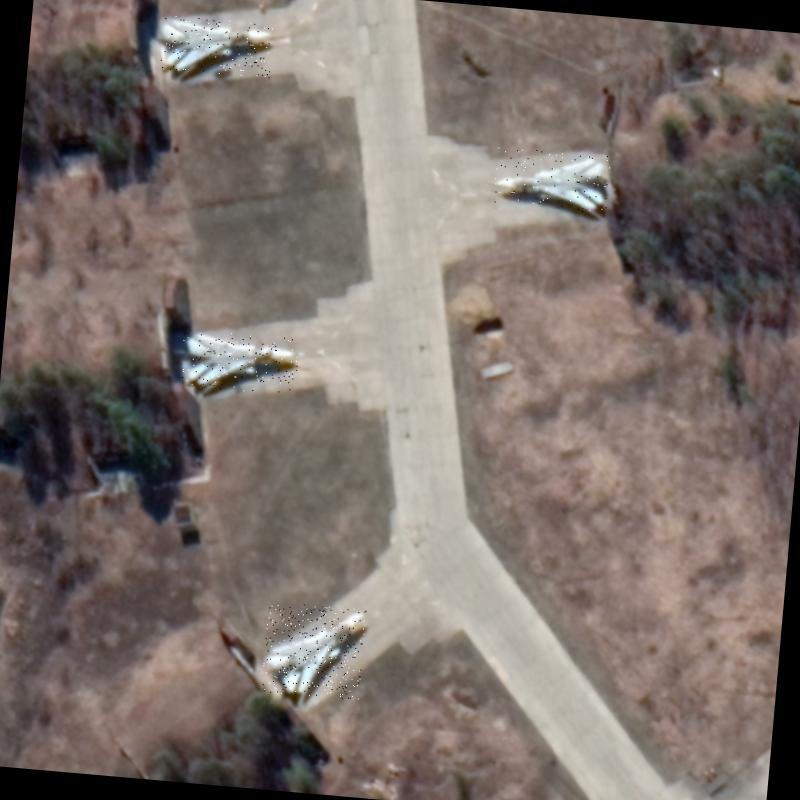A20: (261, 602, 367, 700), (179, 329, 300, 396), (492, 146, 611, 214), (158, 14, 274, 80)
